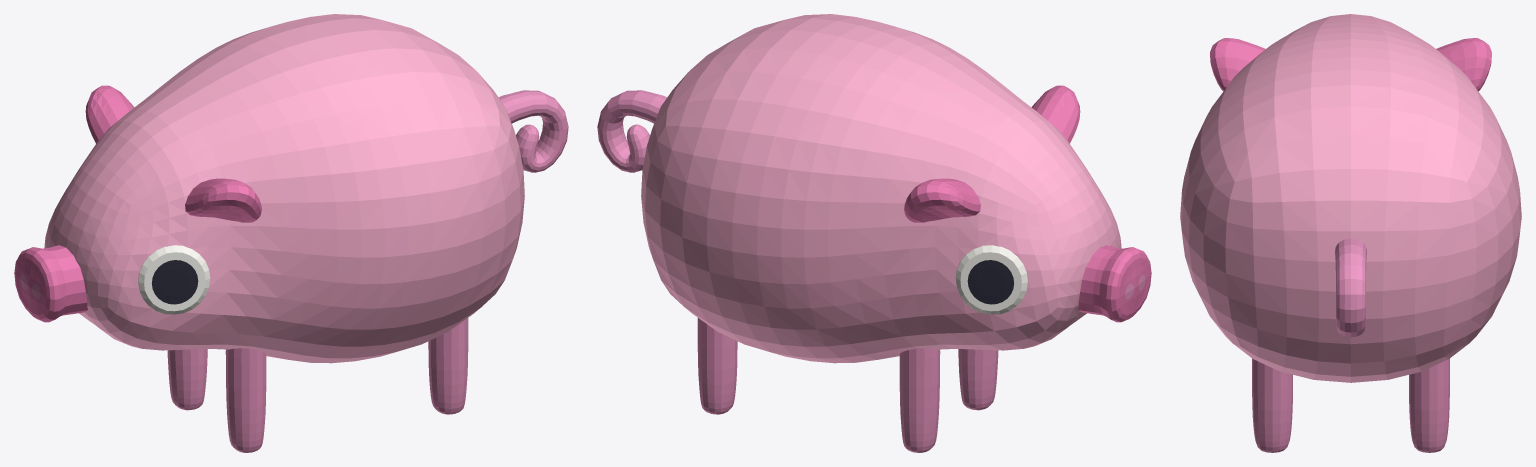
Rendered from Pig_LOD0.fbx.
3 renders of one model, left to right at view 1: azimuth 30°, elevation 25°; view 2: azimuth 150°, elevation 25°; view 3: azimuth 270°, elevation 25°, orthographic. The views are drawn at different scales.
Parts seen in each view (by area): view 1: Mesh; view 2: Mesh; view 3: Mesh.
Boxes of the visible parts, box(x1,y1,x2,y2) form: Mesh: box(14, 14, 568, 452); Mesh: box(597, 14, 1151, 452); Mesh: box(1180, 14, 1521, 452).
Bounding box in the file's own units: 275 × 179 × 156.
1 material, 1 textured.
